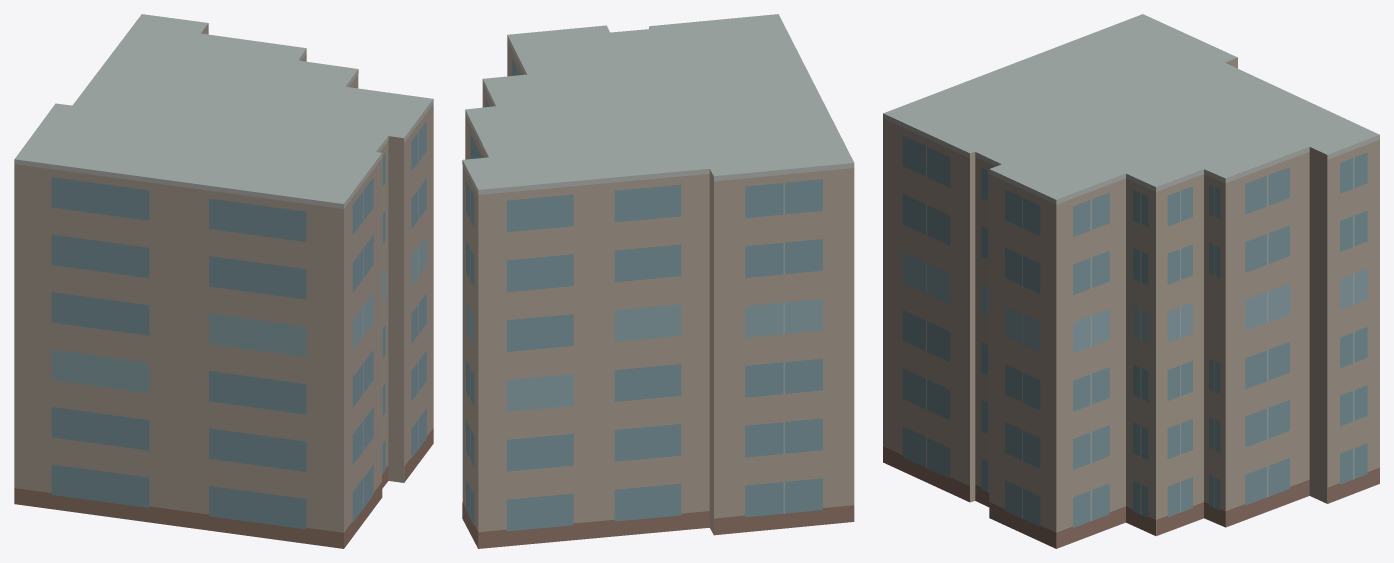
Rendered from survey-upis-32966172.glb.
3 views of the same model, side by side, from view 1: azimuth 30°, elevation 25°; view 2: azimuth 150°, elevation 25°; view 3: azimuth 270°, elevation 25° (orthographic). The views are drawn at different scales.
Parts seen in each view (by area): view 1: survey-upis-32966172.tmp; view 2: survey-upis-32966172.tmp; view 3: survey-upis-32966172.tmp.
Boxes of the visible parts, box(x1,y1,x2,y2) form: survey-upis-32966172.tmp: box(14, 14, 433, 548); survey-upis-32966172.tmp: box(462, 14, 854, 548); survey-upis-32966172.tmp: box(883, 14, 1379, 548).
Size of the model in its own units: 19.76 by 17.3 by 22.32.
